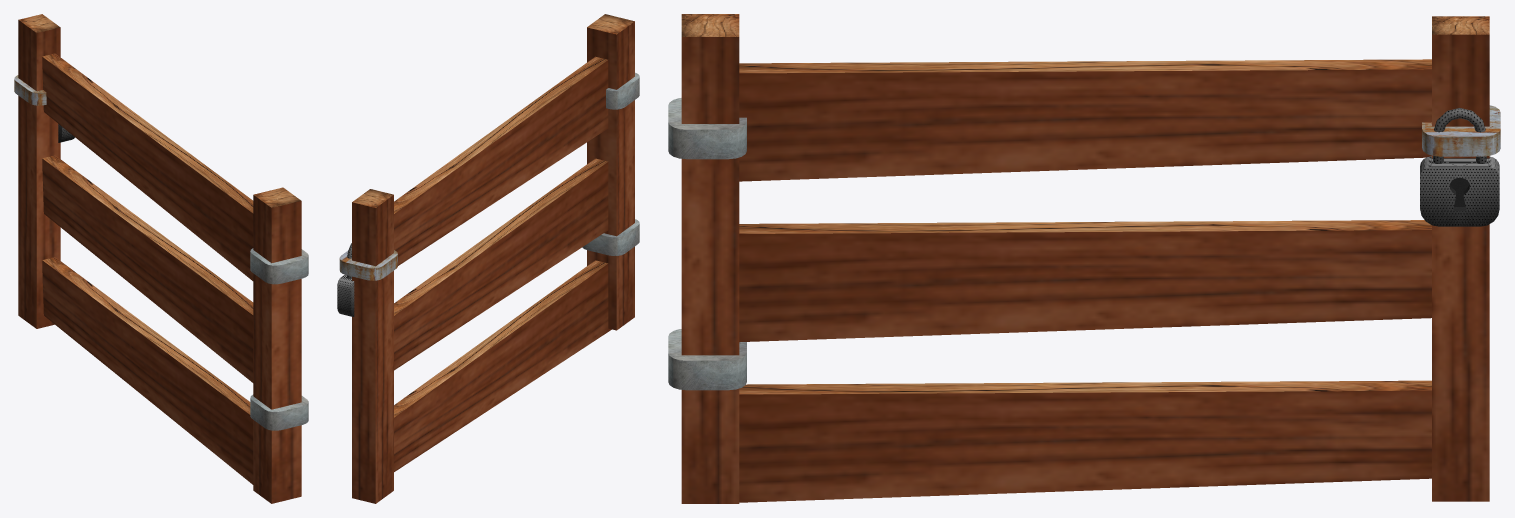
The model's file is puerta_Corral.fbx.
The picture shows the model from 3 angles, left to right: view 1: azimuth 30°, elevation 25°; view 2: azimuth 150°, elevation 25°; view 3: azimuth 270°, elevation 25°; orthographic projection. The views are drawn at different scales.
Parts seen in each view (by area): view 1: puerta Corral; view 2: puerta Corral, candado; view 3: puerta Corral, candado.
Boxes of the visible parts, x1,y1,x2,y2 form: puerta Corral: [14, 14, 308, 503]; puerta Corral: [339, 14, 639, 503]; candado: [337, 243, 354, 316]; puerta Corral: [668, 14, 1500, 503]; candado: [1420, 108, 1499, 226].
Size of the model in its own units: 15.58 by 99.5 by 159.
